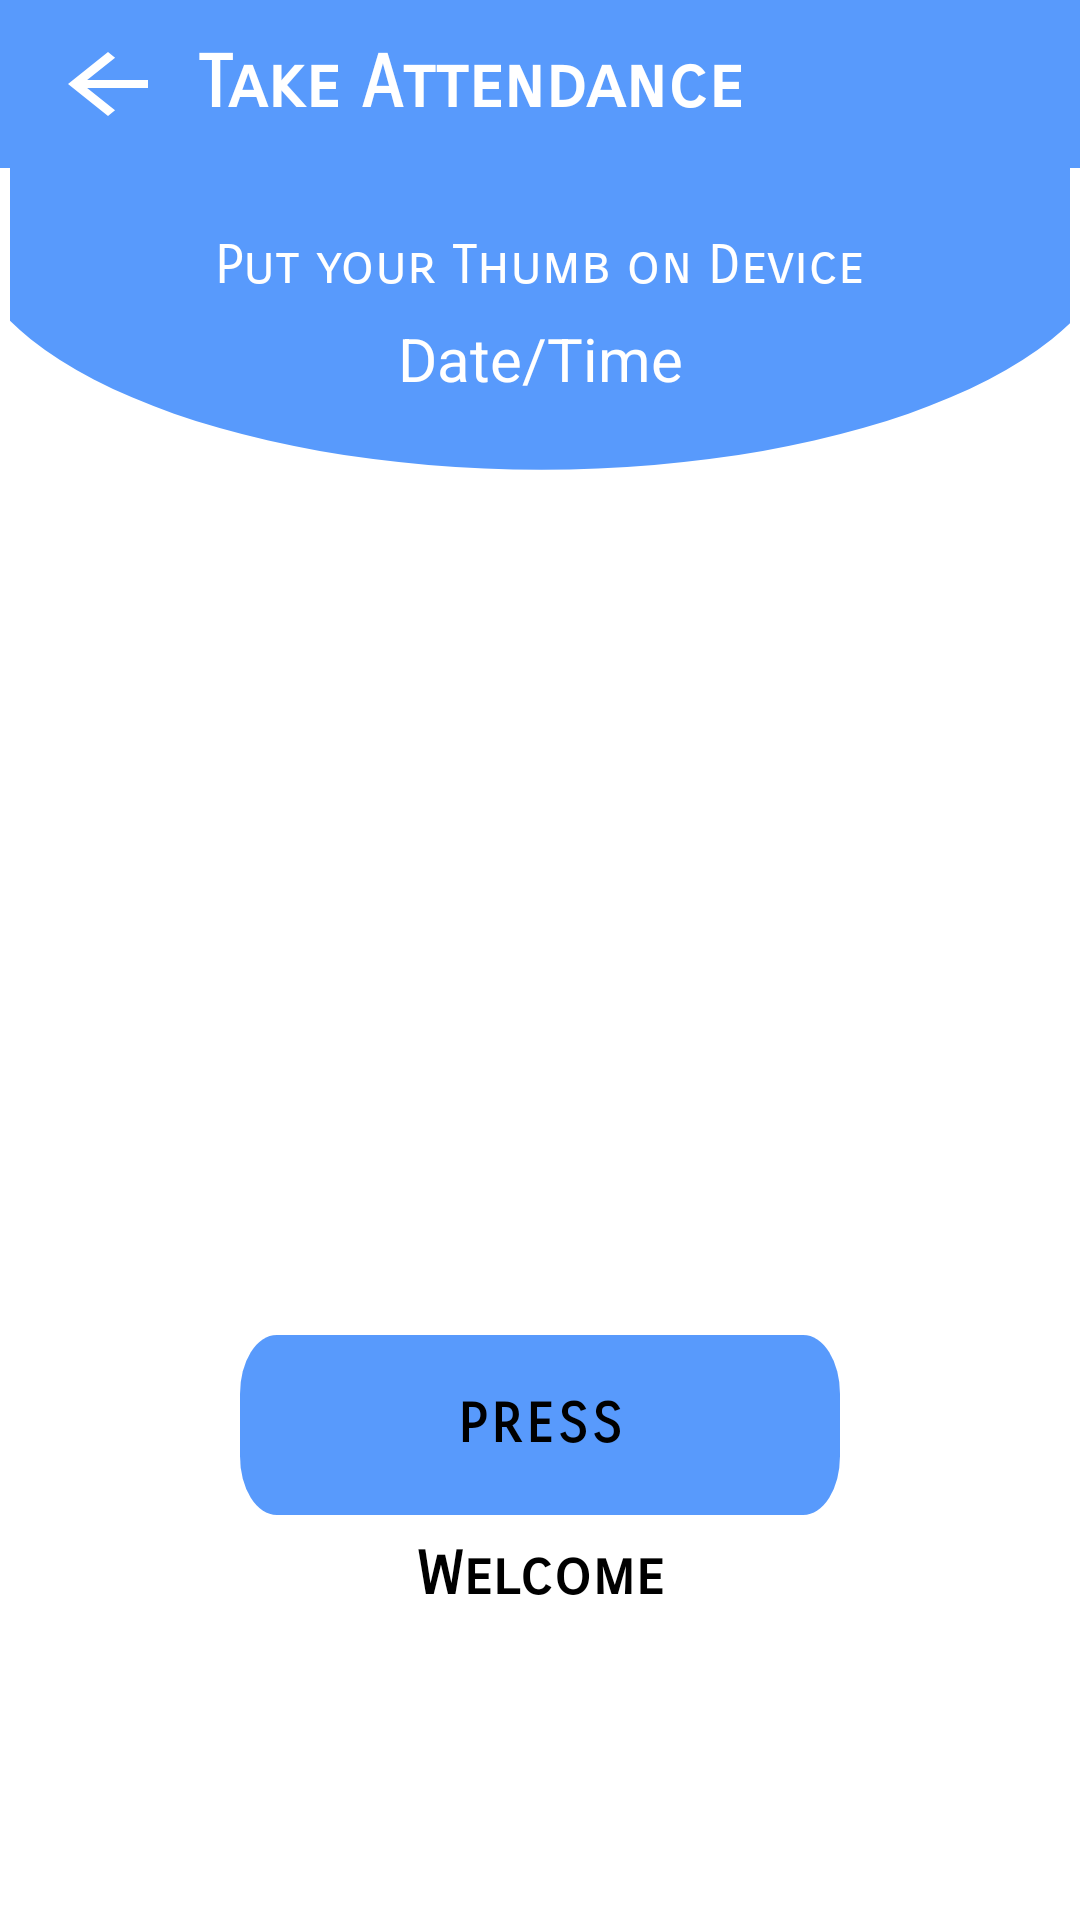

Point at icon controls on the screen. Image size 1080 × 1920, points as [x,y].
back arrow: [108,84]
